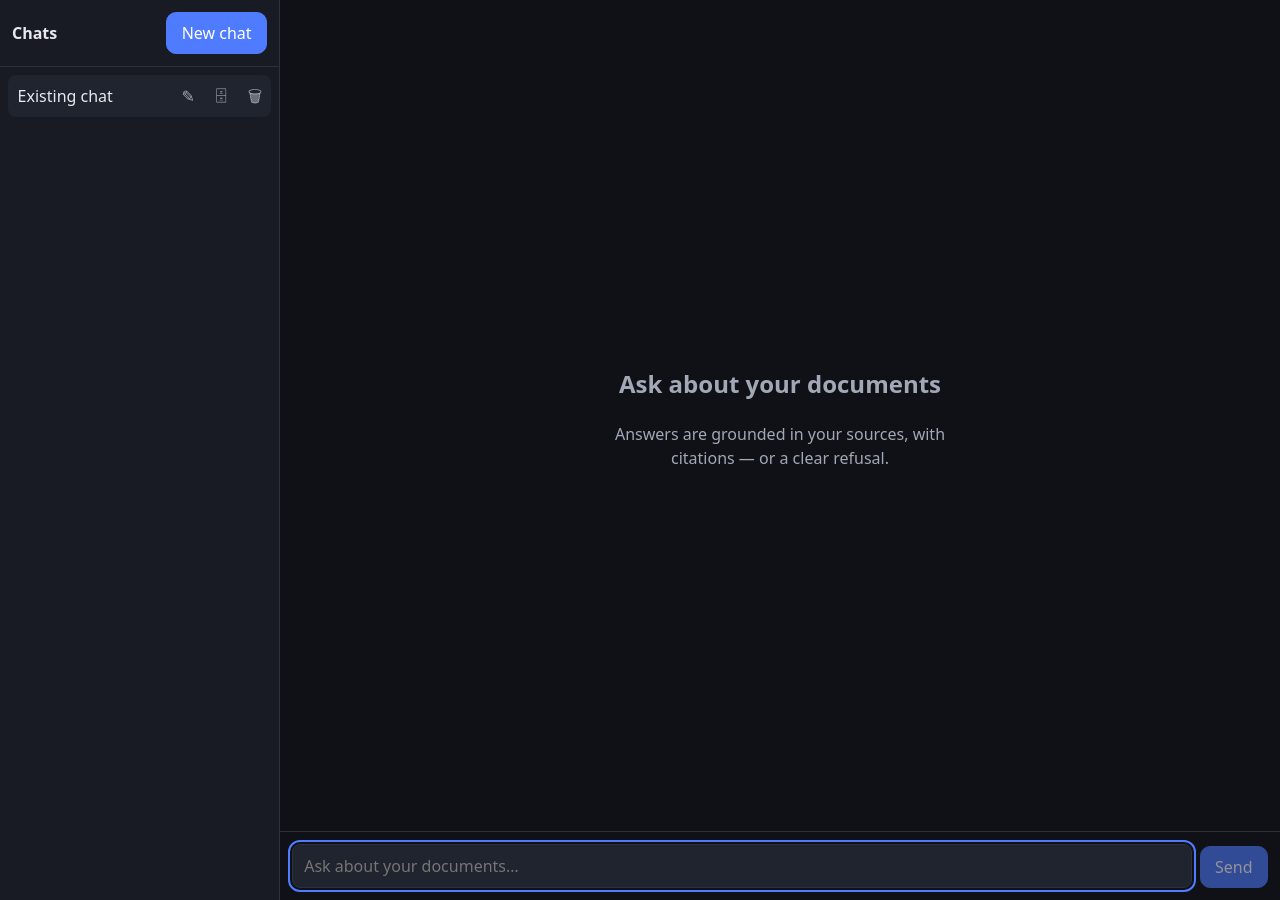
it: chat — streaming + states › refuses before generating on low confidence (no tokens)
The width and height of the screenshot is (1280, 900).
Expected: the heading "Ask about your documents" is shown, [597,366,963,402]
In the text box named "Message": (742, 866) [292,844,1192,888], type "anything?"
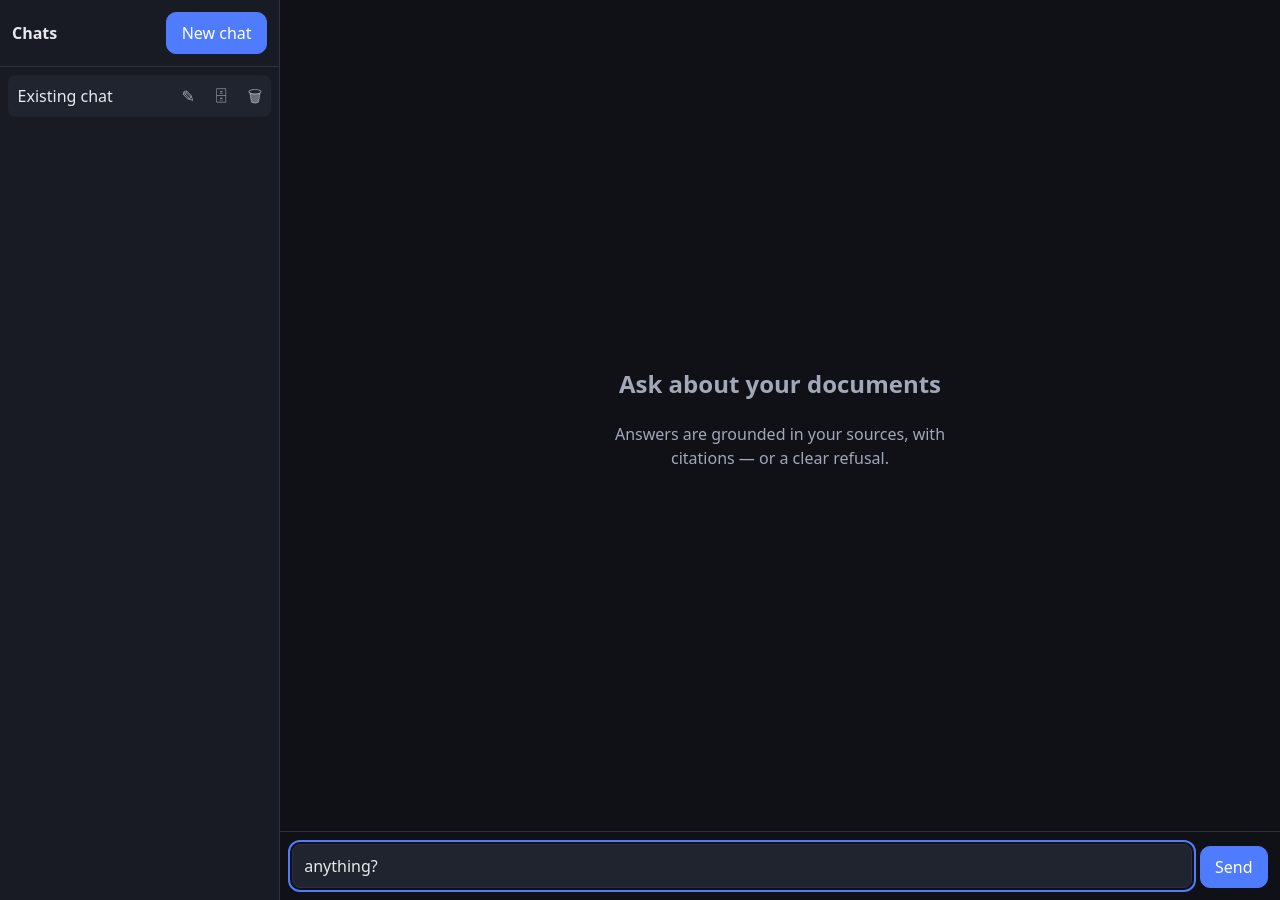
Click the button "Send": (1234, 867) [1200,846,1268,888]
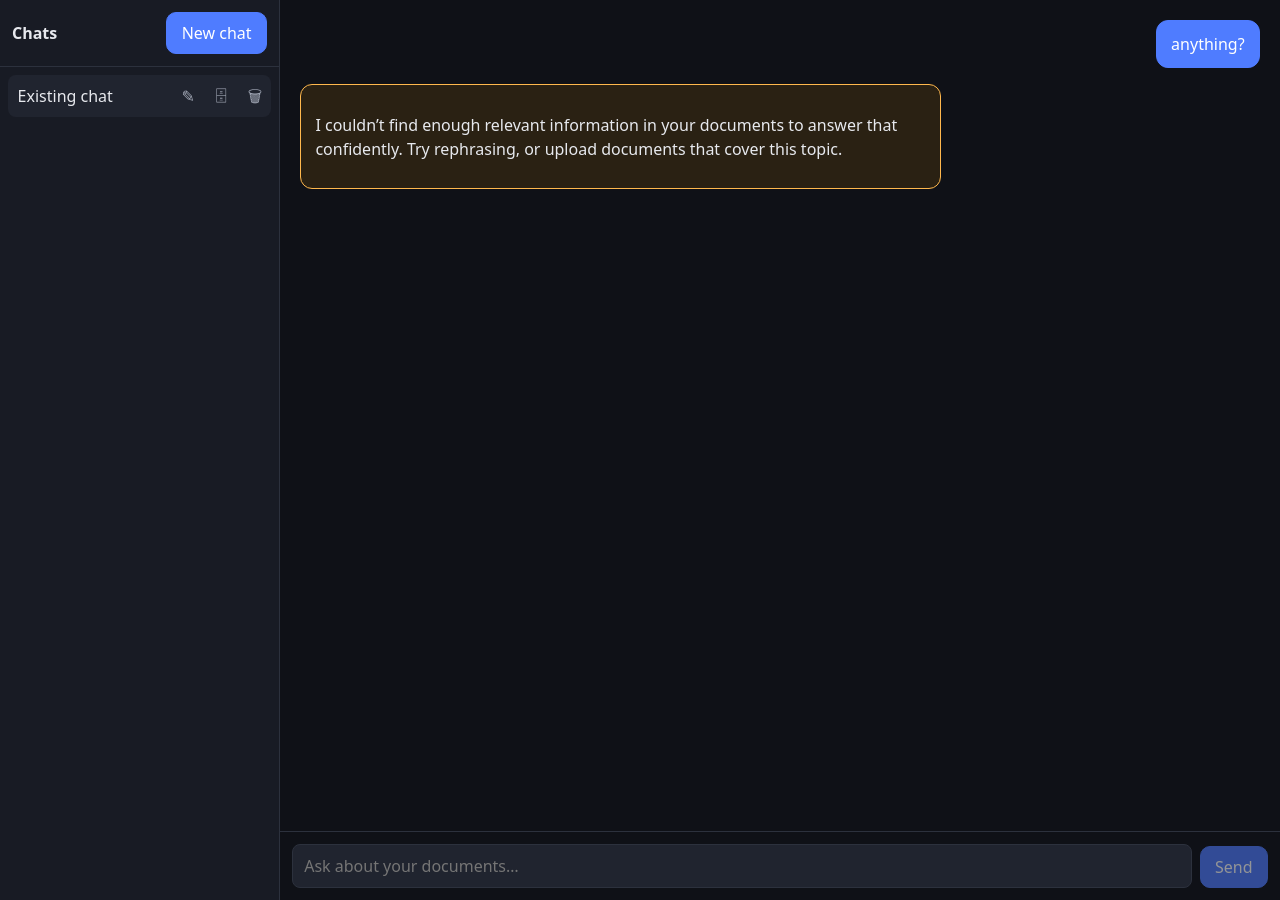
Now the text "couldn’t find enough relevant information" is shown, box [315,114,897,160]
